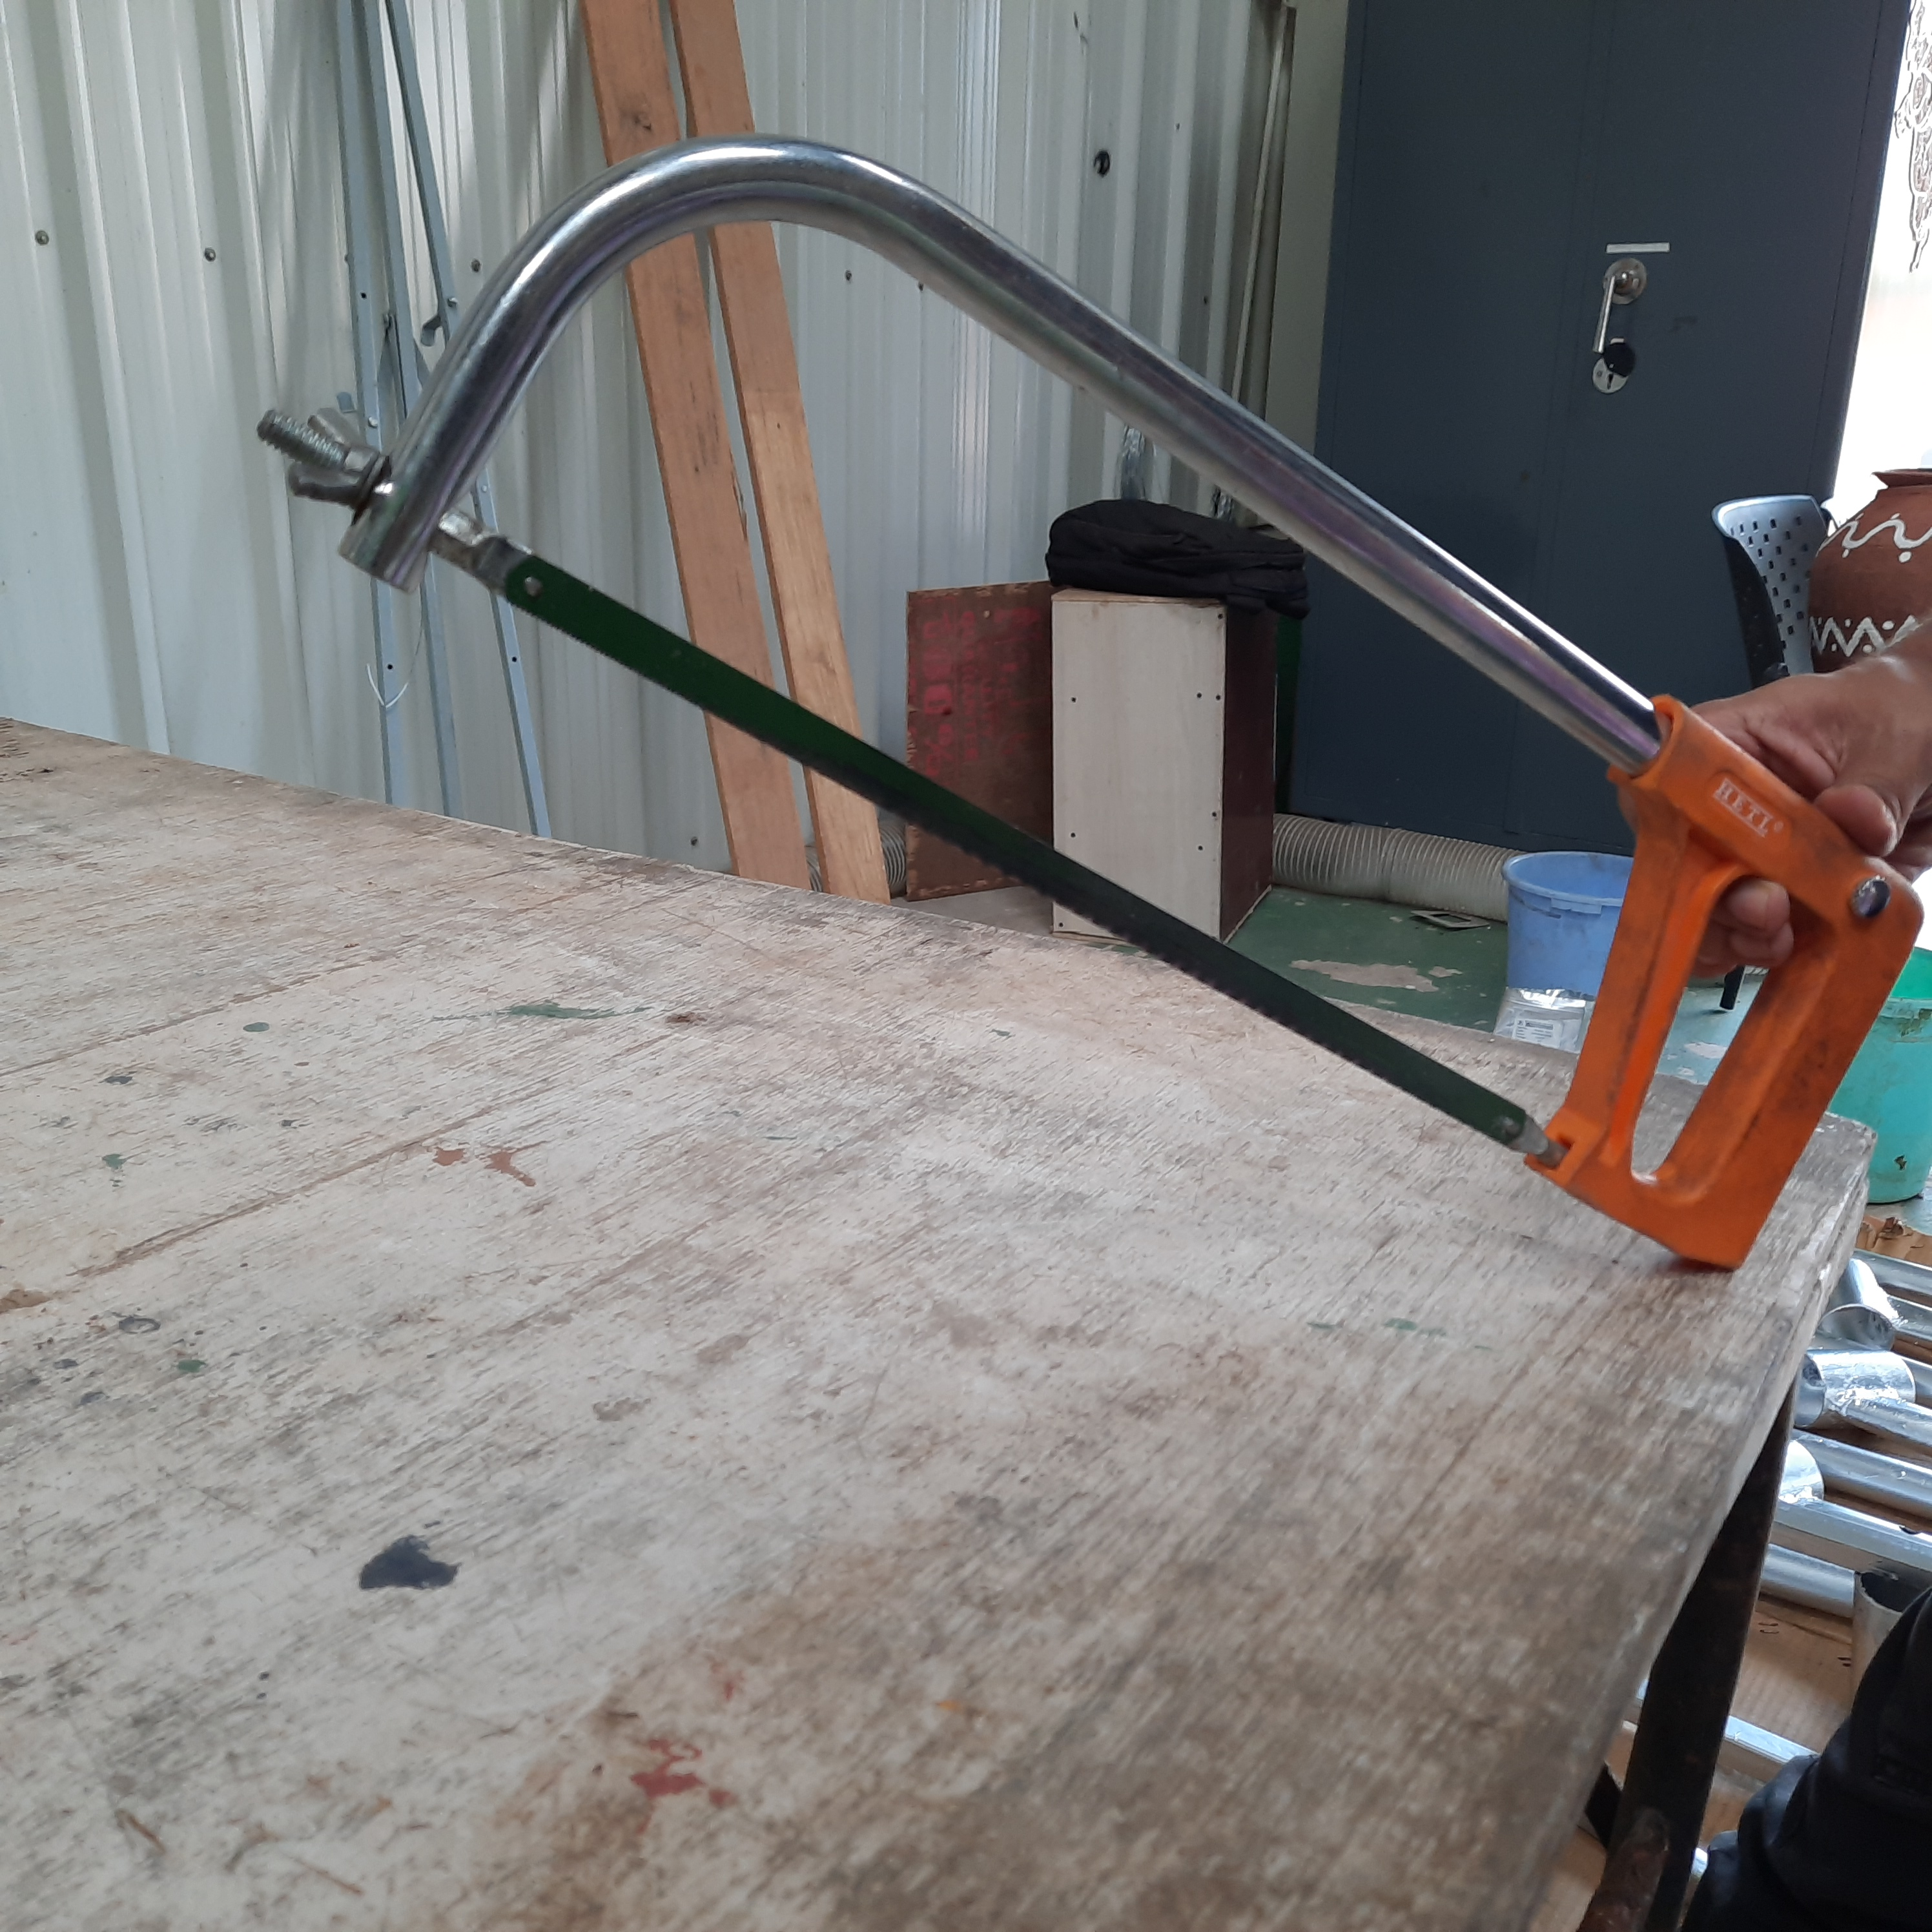Hexaframe: (242, 104, 1932, 1322)
